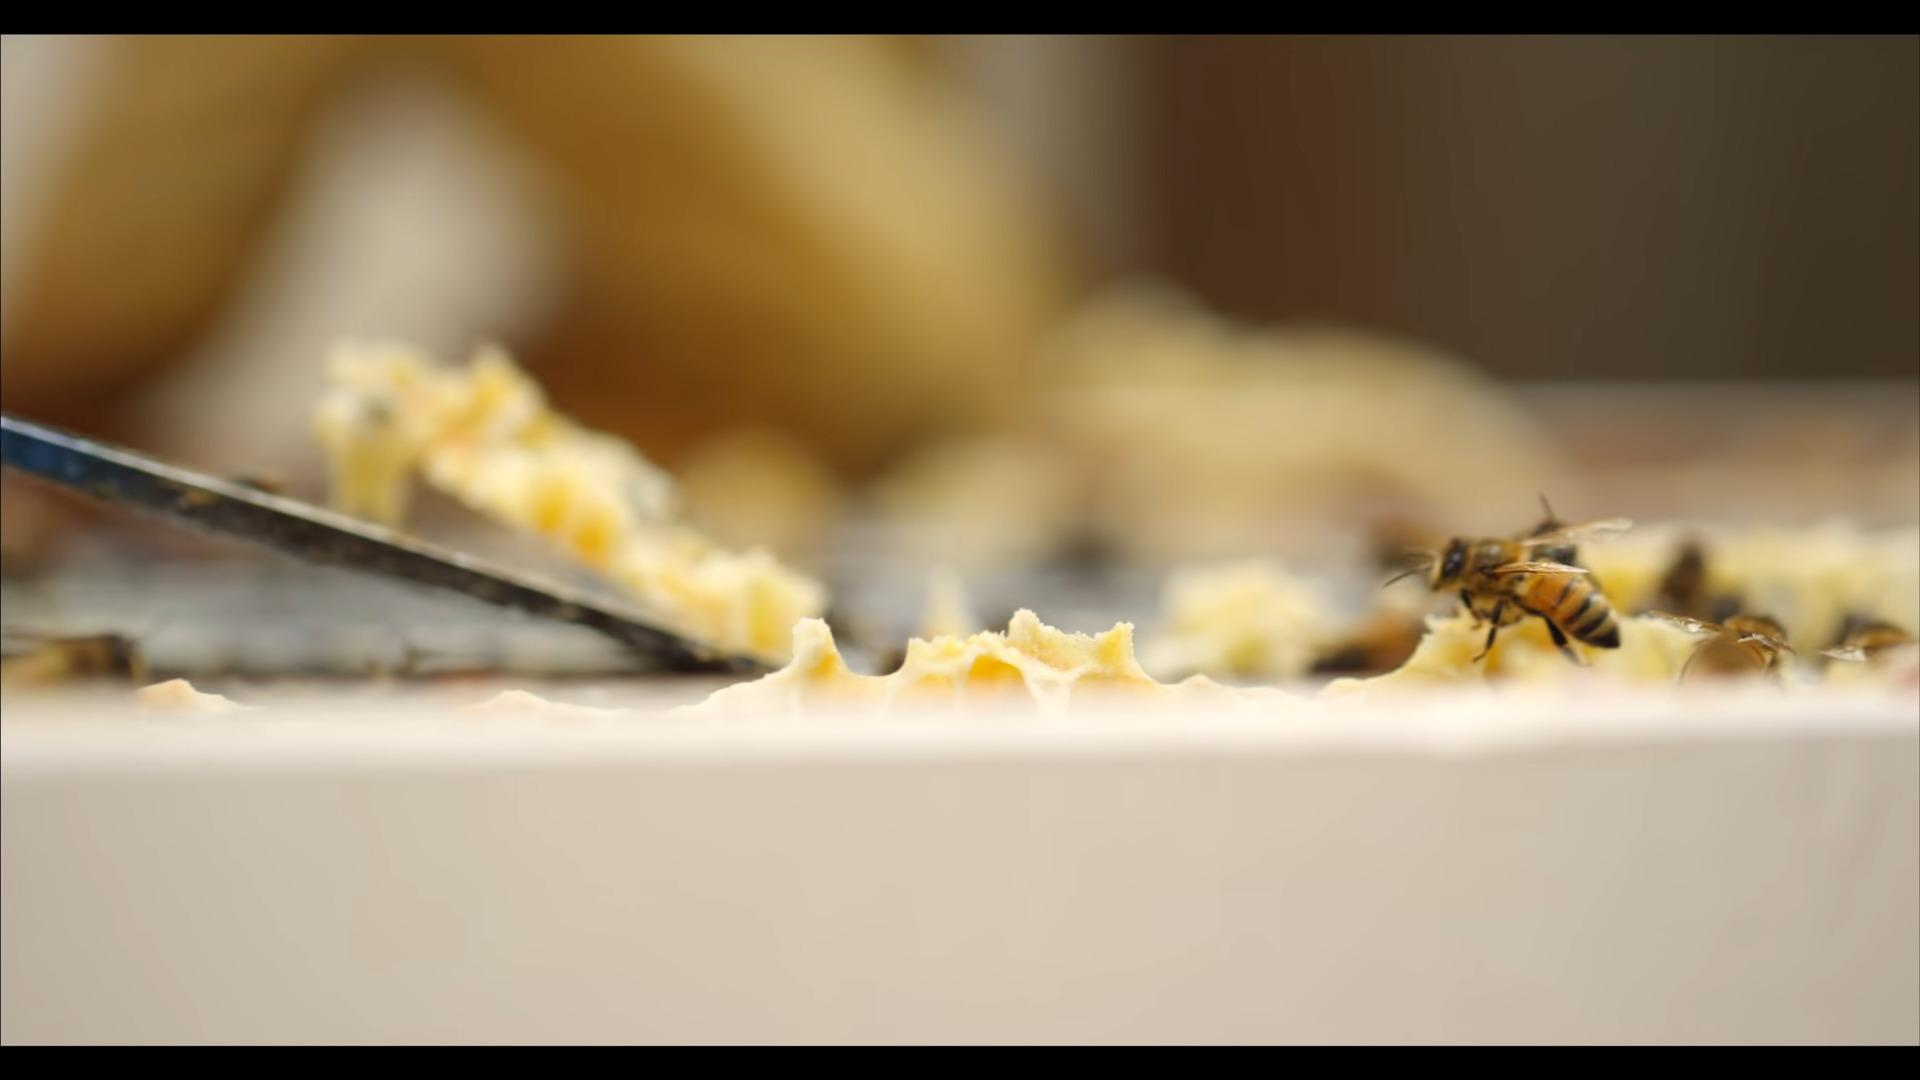bee: (1435, 538, 1621, 651)
